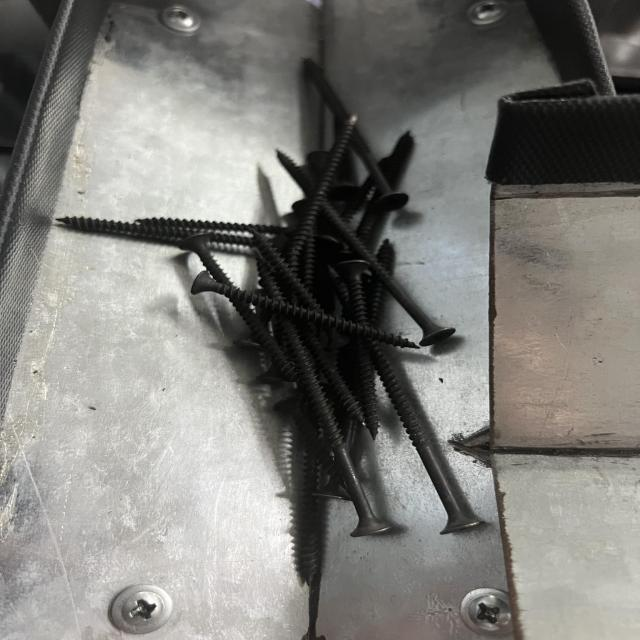screw: (254, 265, 402, 537), (190, 273, 423, 350)
